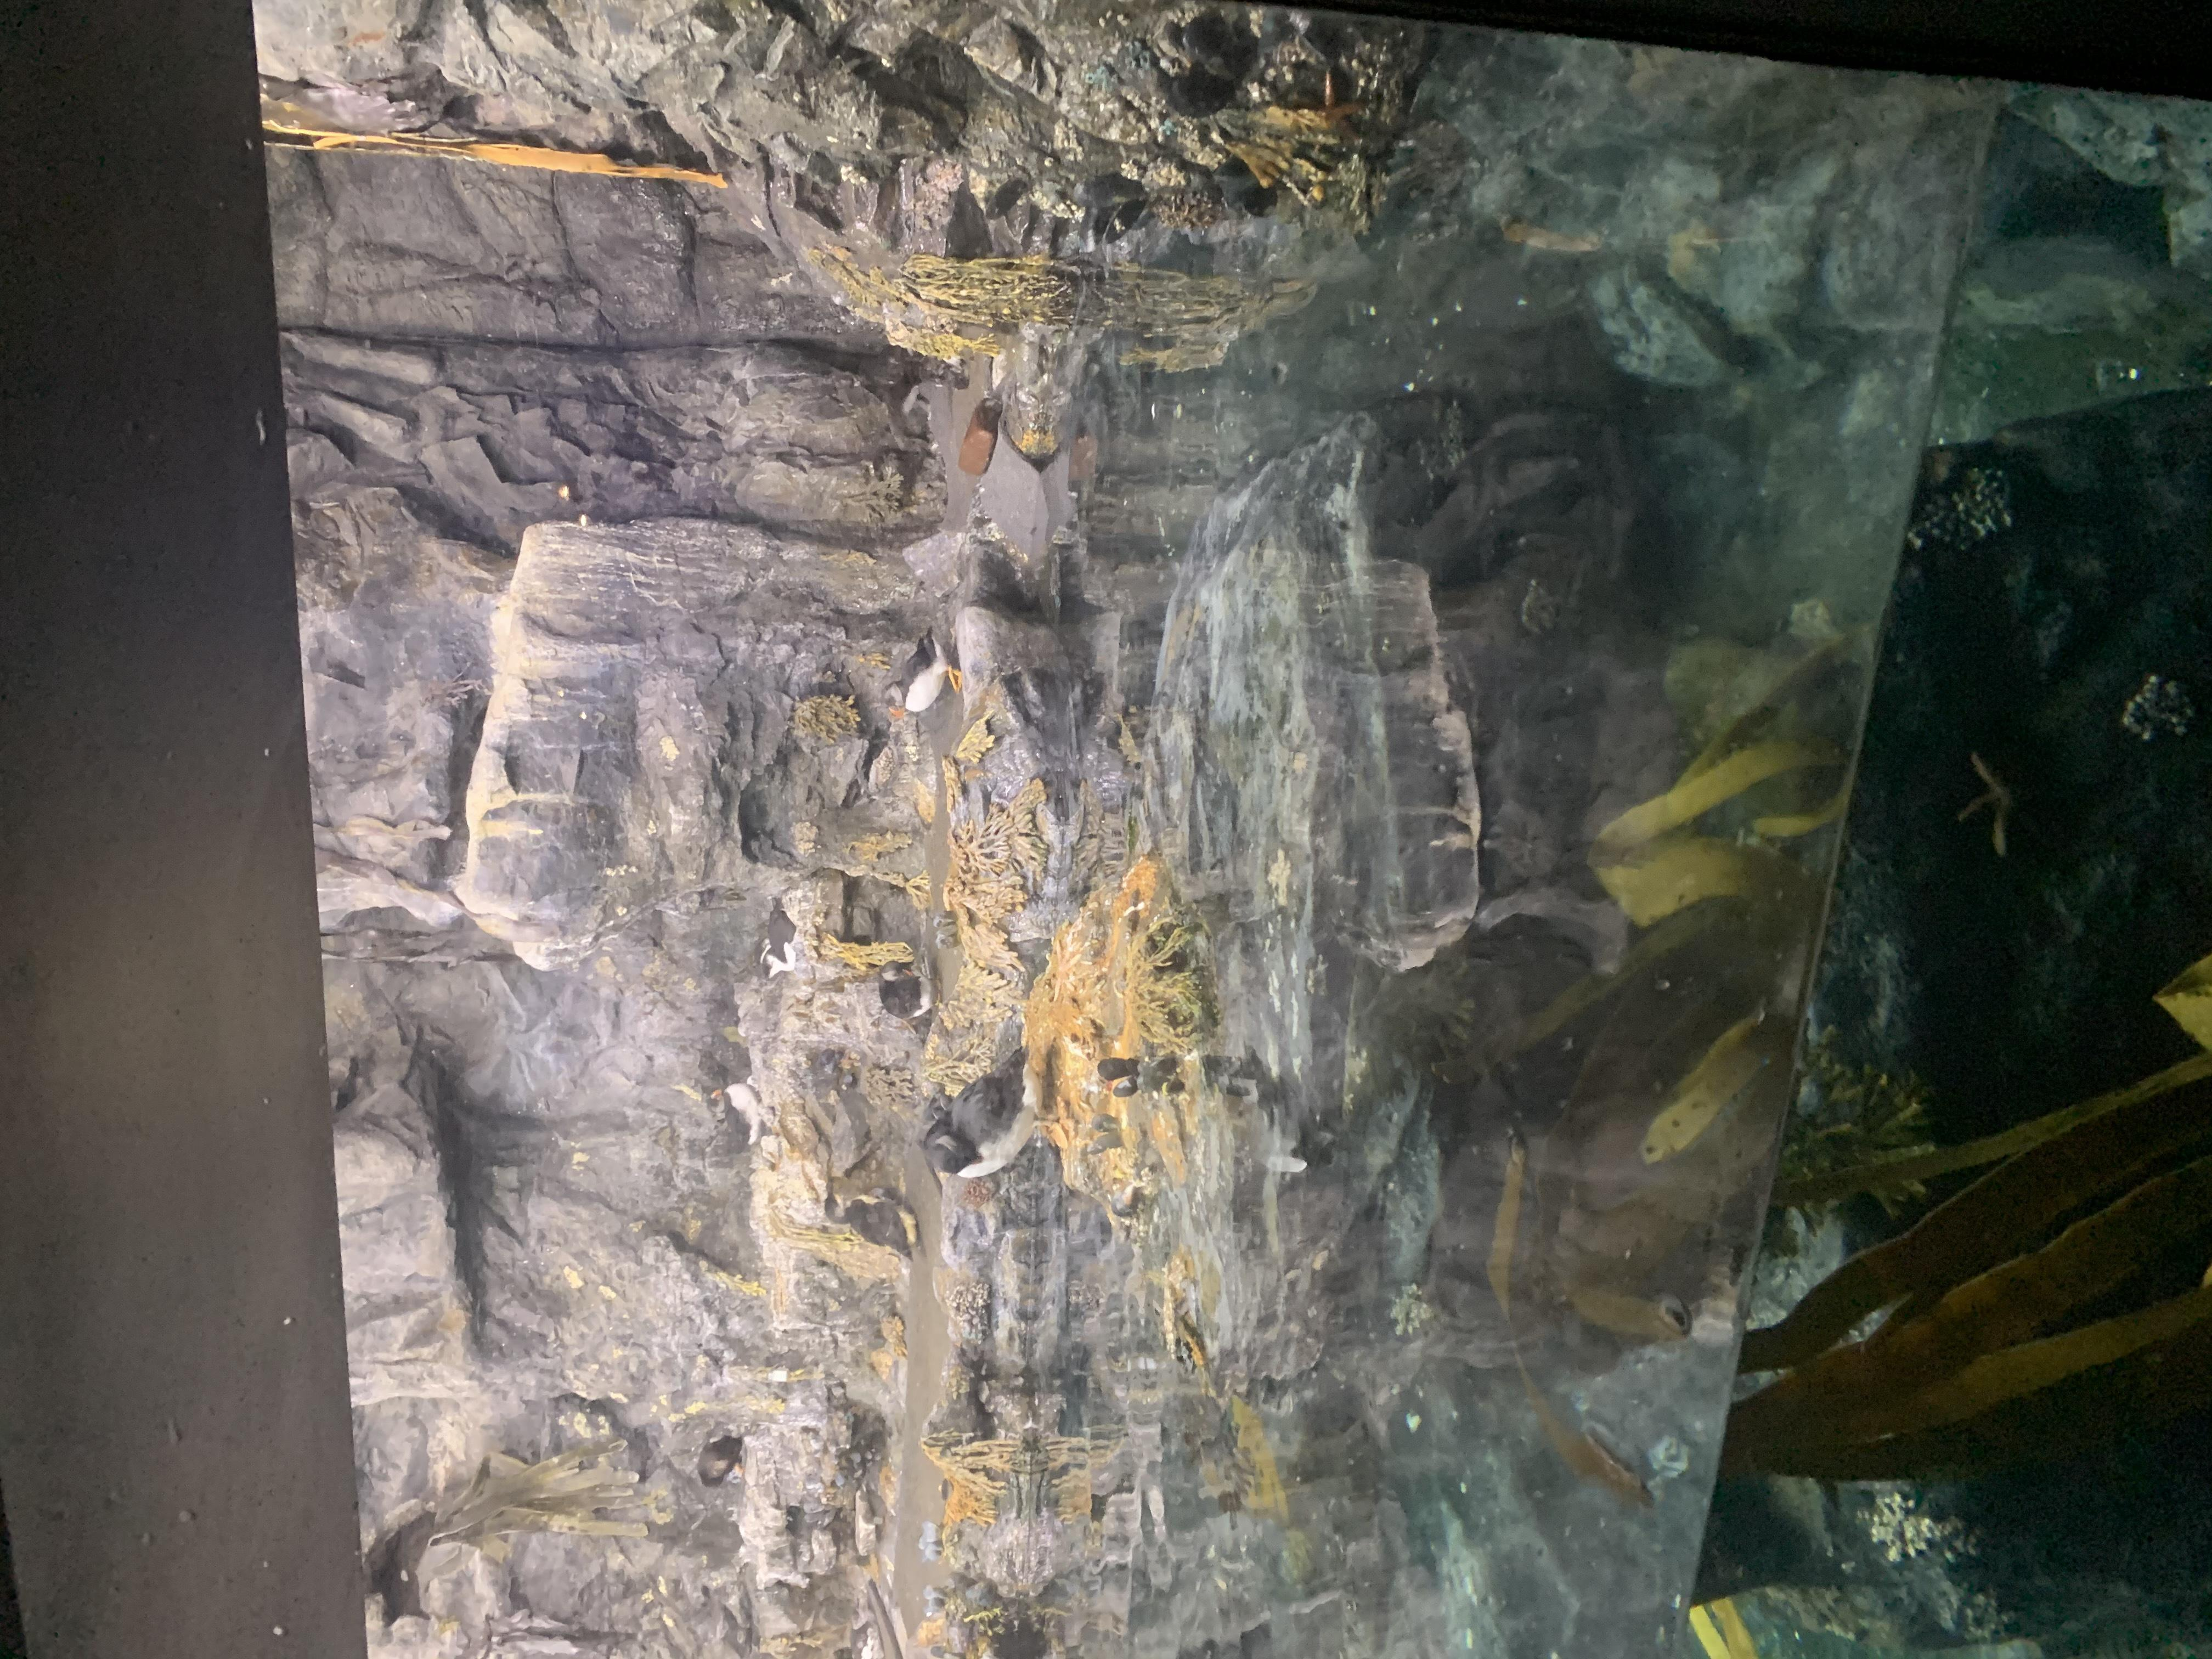puffin: (913, 1046, 1075, 1182), (876, 624, 968, 721), (744, 903, 806, 986), (871, 958, 944, 1019)
